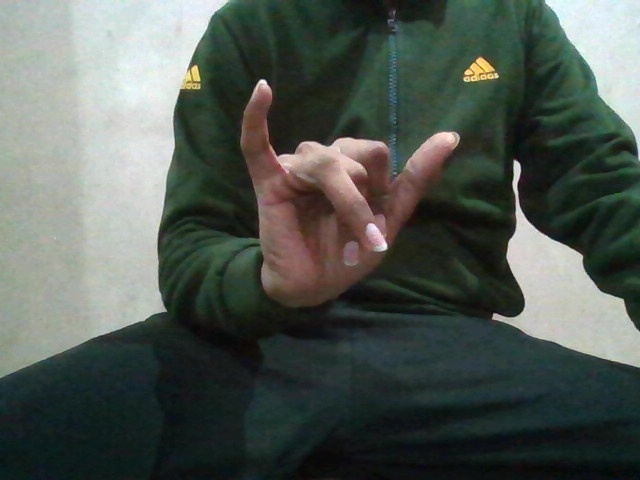Y: (241, 77, 460, 307)
